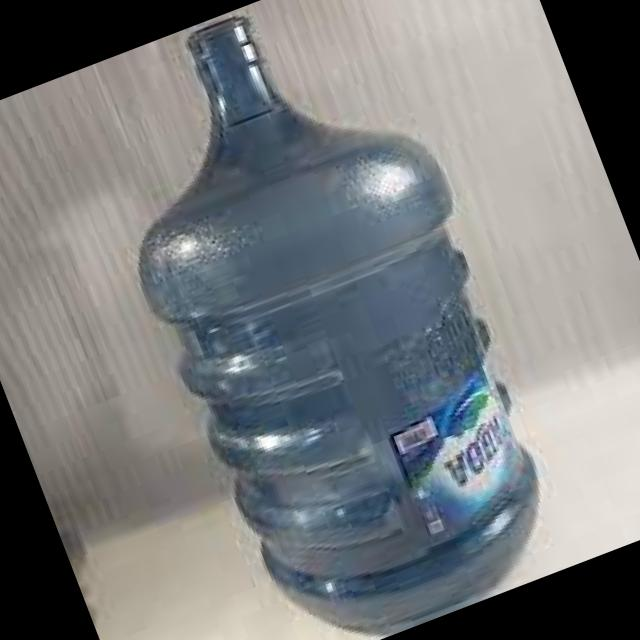Galon: (60, 0, 594, 640)
